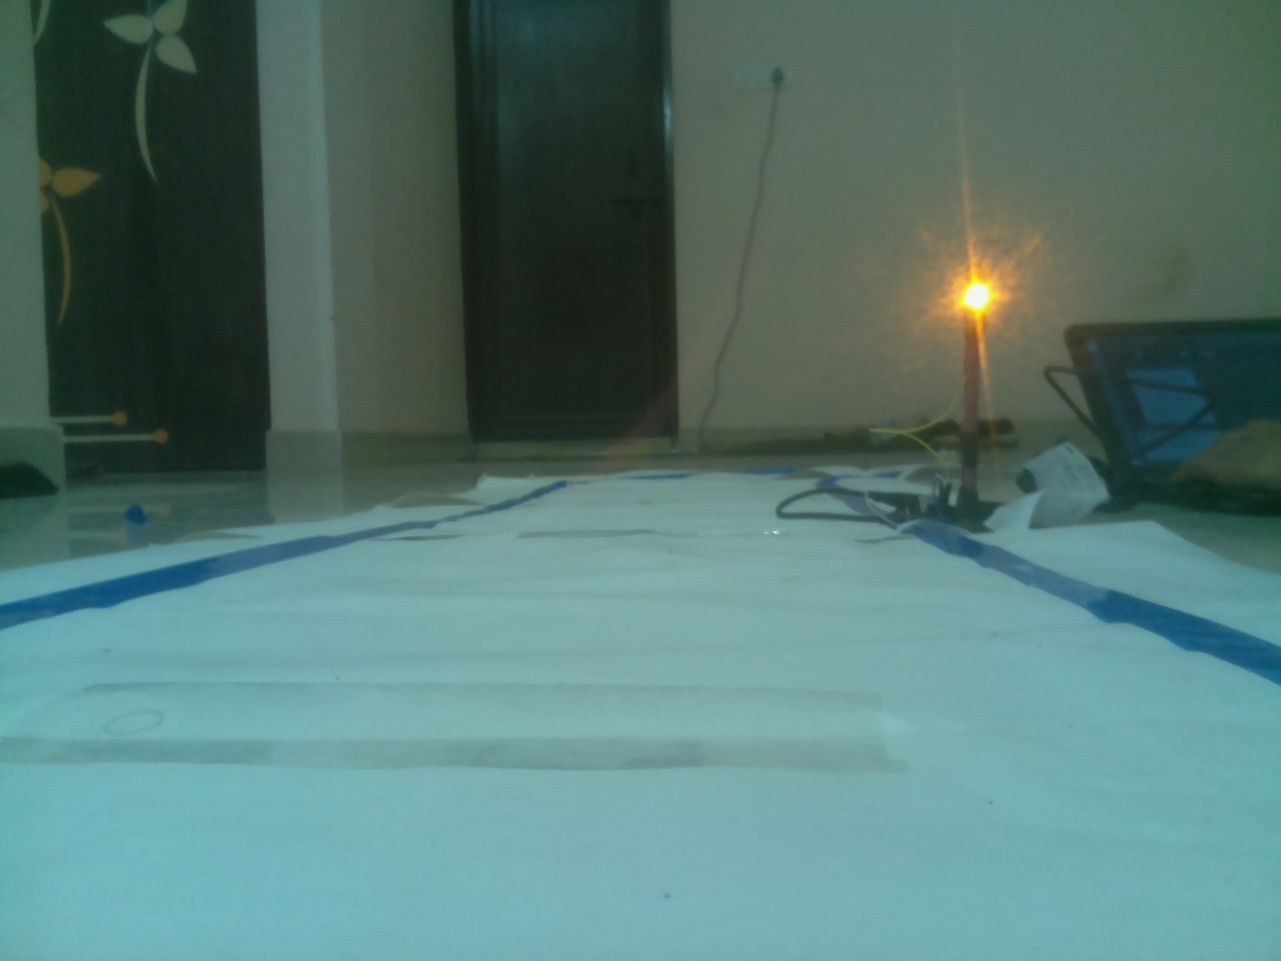yellow-light: (950, 263, 1007, 365)
